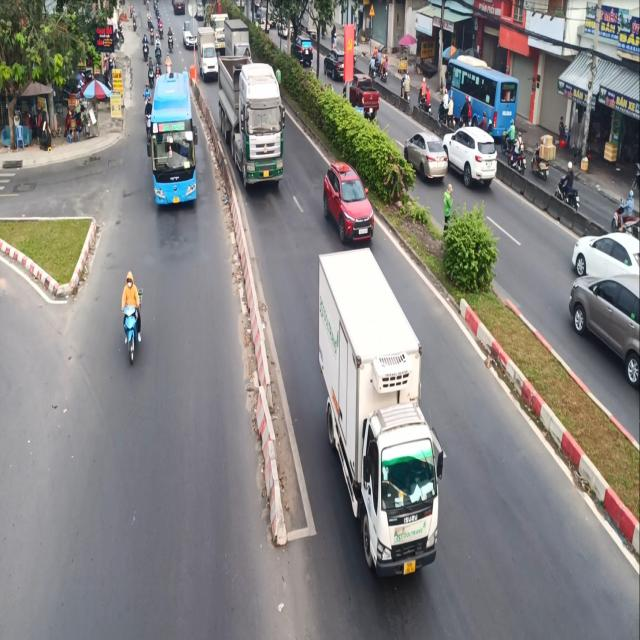bus: (150, 71, 198, 211)
car: (323, 157, 379, 249)
motorbike: (118, 272, 145, 376)
truck: (314, 248, 448, 591), (215, 51, 287, 189)
